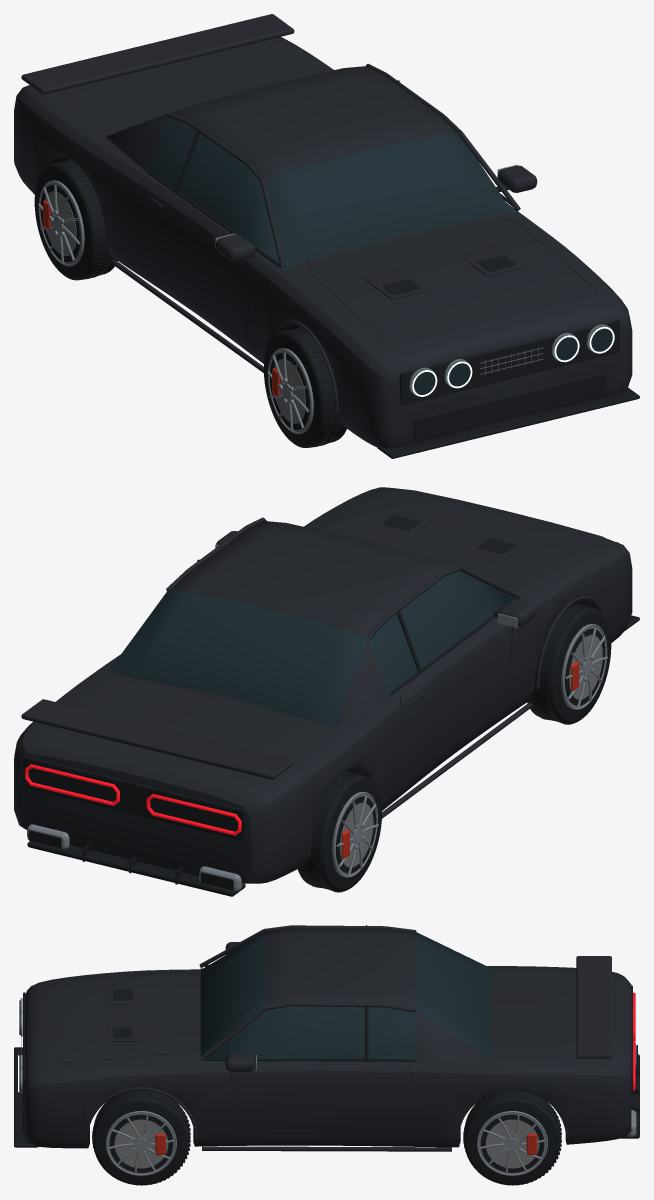
The model's file is car-4.glb.
3 views of the same model, one above another, from view 1: azimuth 30°, elevation 25°; view 2: azimuth 150°, elevation 25°; view 3: azimuth 270°, elevation 25° (orthographic). The views are drawn at different scales.
Parts seen in each view (by area): view 1: Continuous sculpted body, Integrated roof and glazing, SM_car_4_Satin_trim_and_tyres, SM_car_4_Obsidian_clearcoat, Wheel_L_Front, Wheel_L_Rear, SM_car_4_Dark_machined_alloy, SM_car_4_Dark_automotive_glass, SM_car_4_Headlight_halo; view 2: Continuous sculpted body, Integrated roof and glazing, SM_car_4_Obsidian_clearcoat, SM_car_4_Satin_trim_and_tyres, Wheel_L_Front, Wheel_L_Rear, SM_car_4_Dark_machined_alloy, SM_car_4_Tail_LED; view 3: Continuous sculpted body, Integrated roof and glazing, SM_car_4_Obsidian_clearcoat, Wheel_R_Front, Wheel_R_Rear, SM_car_4_Satin_trim_and_tyres, SM_car_4_Dark_machined_alloy.
Boxes of the visible parts, left/top/right/bottom form: Continuous sculpted body: left=14, top=37, right=632, bottom=448; Integrated roof and glazing: left=104, top=66, right=518, bottom=269; SM_car_4_Satin_trim_and_tyres: left=137, top=80, right=639, bottom=458; SM_car_4_Obsidian_clearcoat: left=21, top=14, right=537, bottom=413; Wheel_L_Front: left=264, top=327, right=346, bottom=447; Wheel_L_Rear: left=34, top=159, right=117, bottom=280; SM_car_4_Dark_machined_alloy: left=38, top=164, right=611, bottom=430; SM_car_4_Dark_automotive_glass: left=412, top=328, right=612, bottom=394; SM_car_4_Headlight_halo: left=412, top=326, right=614, bottom=396; Continuous sculpted body: left=14, top=487, right=632, bottom=883; Integrated roof and glazing: left=104, top=521, right=514, bottom=729; SM_car_4_Obsidian_clearcoat: left=21, top=513, right=604, bottom=857; SM_car_4_Satin_trim_and_tyres: left=23, top=488, right=639, bottom=896; Wheel_L_Front: left=527, top=603, right=611, bottom=724; Wheel_L_Rear: left=297, top=771, right=381, bottom=892; SM_car_4_Dark_machined_alloy: left=27, top=535, right=607, bottom=891; SM_car_4_Tail_LED: left=25, top=764, right=241, bottom=835; Continuous sculpted body: left=24, top=966, right=631, bottom=1148; Integrated roof and glazing: left=200, top=927, right=491, bottom=1061; SM_car_4_Obsidian_clearcoat: left=85, top=925, right=611, bottom=1151; Wheel_R_Front: left=92, top=1090, right=190, bottom=1185; Wheel_R_Rear: left=463, top=1090, right=561, bottom=1185; SM_car_4_Satin_trim_and_tyres: left=14, top=925, right=639, bottom=1147; SM_car_4_Dark_machined_alloy: left=20, top=998, right=636, bottom=1173.
Bounding box in the file's own units: 2.33 × 1.5 × 5.06.
